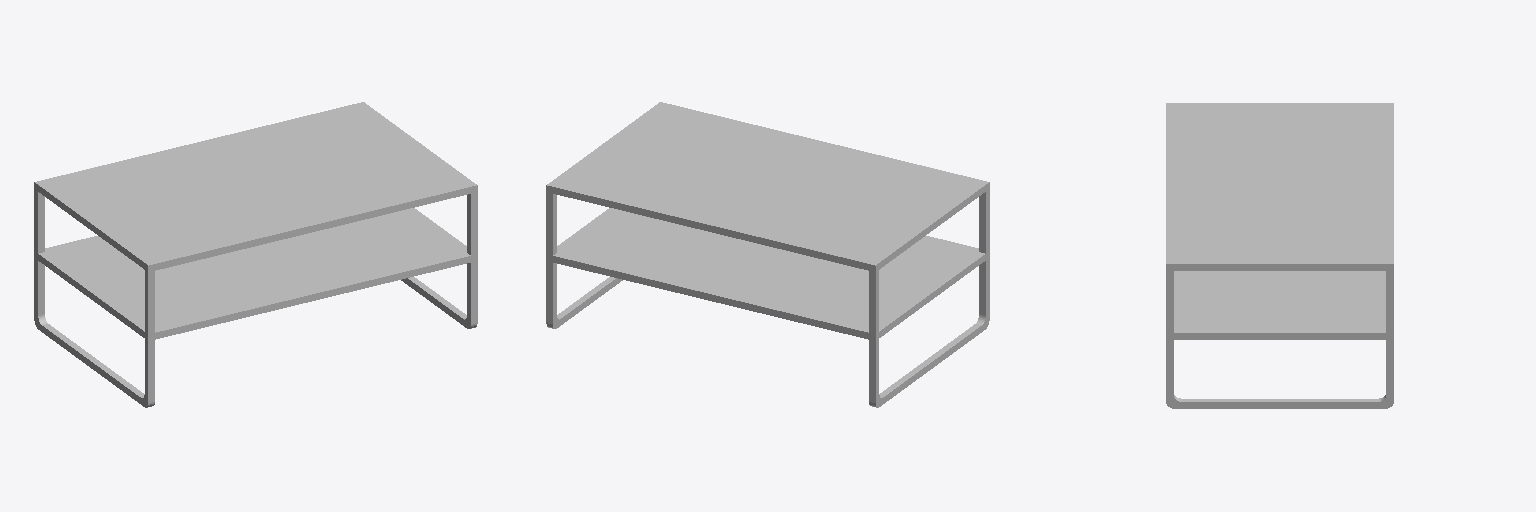
File: desk.obj
3 views of the same model, side by side, from view 1: azimuth 30°, elevation 25°; view 2: azimuth 150°, elevation 25°; view 3: azimuth 270°, elevation 25° (orthographic).
Parts seen in each view (by area): view 1: Box001, Box002, Line001, Line002; view 2: Box001, Box002, Line001, Line002; view 3: Box001, Box002, Line002.
Part boxes in pixels (x1,y1,x2,y2): Box001: (34, 102, 477, 271); Box002: (34, 208, 477, 340); Line001: (34, 189, 154, 407); Line002: (401, 192, 477, 328); Box001: (546, 102, 989, 271); Box002: (548, 208, 985, 340); Line001: (869, 189, 989, 407); Line002: (546, 192, 622, 328); Box001: (1166, 103, 1393, 270); Box002: (1166, 271, 1385, 339); Line002: (1166, 271, 1393, 408).
Bounding box in the file's own units: 1000 × 420 × 600.